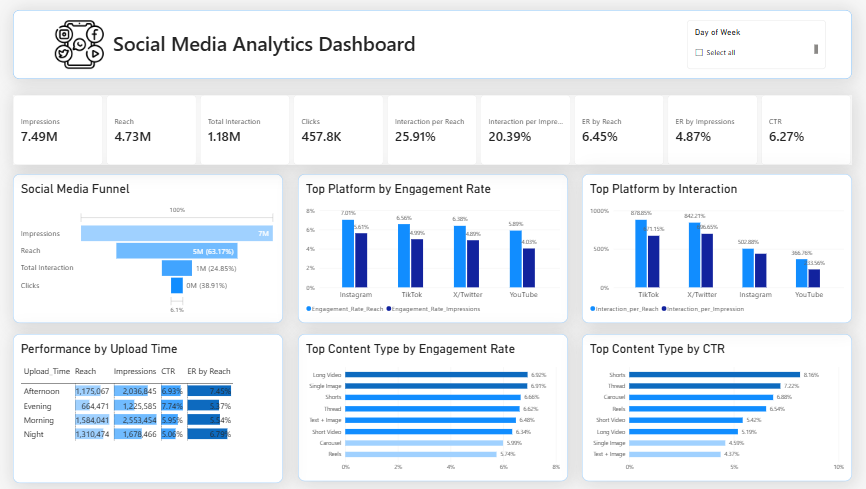

What the dashboard file says about the page in this screenshot:
{"tool":"powerbi","page":{"name":"Page 1","canvas":[1920,1080],"ordinal":0},"visuals":[{"type":"shape","box":[51.8,41,1812.2,149],"z":0},{"type":"funnel","title":"Social Media Funnel","fields":{"Y":["Sum(social_media_engagement.Impressions)","Sum(social_media_engagement.Reach)","Sum(social_media_engagement.Total_Interaction)","Sum(social_media_engagement.Clicks)"]},"box":[51.8,395.3,583.2,321.8],"z":1000},{"type":"clusteredColumnChart","title":"Top Platform by Engagement Rate","fields":{"Category":["social_media_engagement.Platform"],"Y":["Avg(social_media_engagement.Engagement_Rate_Reach)","Avg(social_media_engagement.Engagement_Rate_Impressions)"]},"box":[667.4,395.3,583.2,321.8],"z":2000},{"type":"barChart","title":"Top Content Type by Engagement Rate","fields":{"Category":["social_media_engagement.Content_Type"],"Y":["Avg(social_media_engagement.Engagement_Rate_Reach)"]},"box":[667.4,740.9,583.2,317.5],"z":3000},{"type":"barChart","title":"Top Content Type by CTR","fields":{"Category":["social_media_engagement.Content_Type"],"Y":["Avg(social_media_engagement.CTR)"]},"box":[1280.9,740.9,583.2,317.5],"z":4000},{"type":"cardVisual","title":"Social Media Funnel","fields":{"Data":["Sum(social_media_engagement.Impressions)","Sum(social_media_engagement.Reach)","Sum(social_media_engagement.Total_Interaction)","Sum(social_media_engagement.Clicks)","Avg(social_media_engagement.Interaction_per_Reach)","Avg(social_media_engagement.Interaction_per_Impression)","Avg(social_media_engagement.Engagement_Rate_Reach)","Avg(social_media_engagement.Engagement_Rate_Impressions)","Avg(social_media_engagement.CTR)"]},"box":[51.8,224.6,1812.2,151.2],"z":5000},{"type":"clusteredColumnChart","title":"Top Platform by Interaction","fields":{"Category":["social_media_engagement.Platform"],"Y":["Sum(social_media_engagement.Interaction_per_Reach)","Sum(social_media_engagement.Interaction_per_Impression)"]},"box":[1280.9,395.3,583.2,321.8],"z":6000},{"type":"tableEx","title":"Performance by Upload Time","fields":{"Values":["Table246.Upload_Time","Sum(Table246.Reach)","Sum(Table246.Impressions)","Sum(Table246.CTR)","Sum(Table246.Engagement_Rate_Reach)"]},"box":[51.8,740.9,583.2,321.8],"z":7000},{"type":"textbox","box":[267.8,84.2,961.2,64.8],"z":8000},{"type":"textbox","box":[47,12,150,150],"z":9000},{"type":"image","box":[136.1,62.6,118.8,105.8],"z":10000},{"type":"listSlicer","fields":{"Values":["social_media_engagement.Day_of_Week"]},"box":[1507.7,62.6,300.2,105.8],"z":11000}]}

Visuals, with their boxes in screenshot pixels (x1, y1, x2, y2), scaled from the page's 1920x1080 canvas onto the 866x489 screenshot:
shape: 23,19,841,86
"Social Media Funnel" funnel: 23,179,286,325
"Top Platform by Engagement Rate" clusteredColumnChart: 301,179,564,325
"Top Content Type by Engagement Rate" barChart: 301,335,564,479
"Top Content Type by CTR" barChart: 578,335,841,479
"Social Media Funnel" cardVisual: 23,102,841,170
"Top Platform by Interaction" clusteredColumnChart: 578,179,841,325
"Performance by Upload Time" tableEx: 23,335,286,481
textbox: 121,38,554,67
textbox: 21,5,89,73
image: 61,28,115,76
listSlicer - social_media_engagement.Day_of_Week: 680,28,815,76
